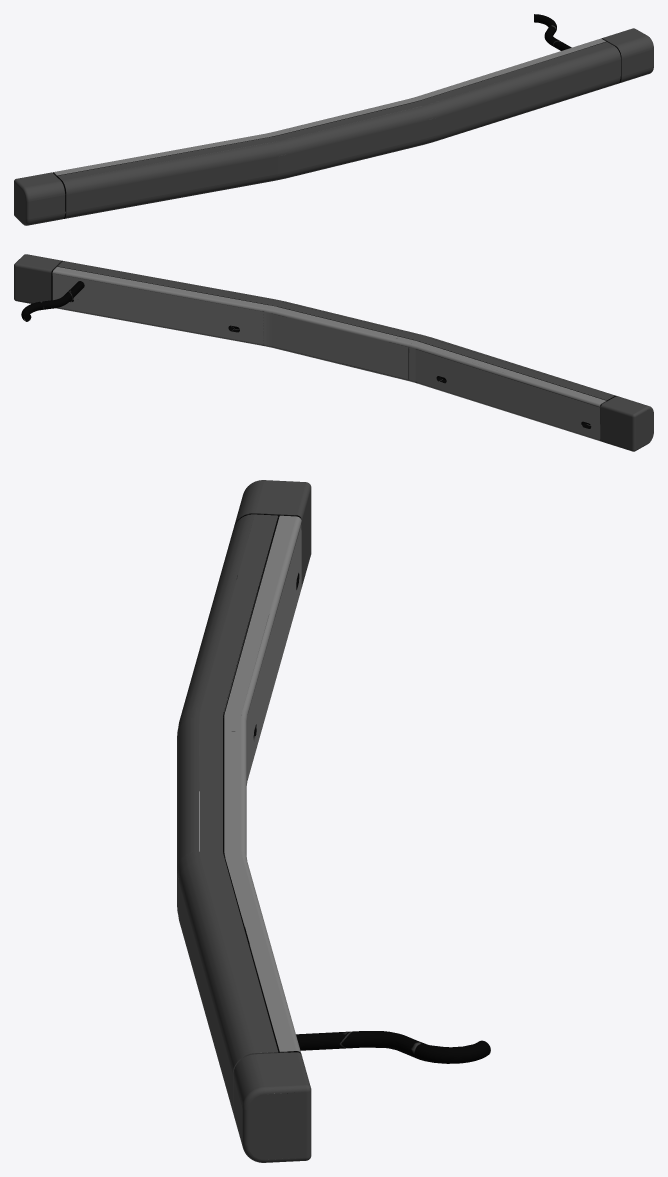
The model's file is bumper_assy.dae.
3 renders of one model, top to bottom at view 1: azimuth 30°, elevation 25°; view 2: azimuth 150°, elevation 25°; view 3: azimuth 270°, elevation 25°, orthographic. The views are drawn at different scales.
Parts seen in each view (by area): view 1: bumper_assy; view 2: bumper_assy; view 3: bumper_assy.
Part boxes in pixels (<box>): bumper_assy: <box>14,14,653,225</box>; bumper_assy: <box>14,254,653,451</box>; bumper_assy: <box>177,480,490,1162</box>.
Size of the model in its own units: 0.522 by 0.113 by 0.03.
Materials: 1 (1 with a texture image).
